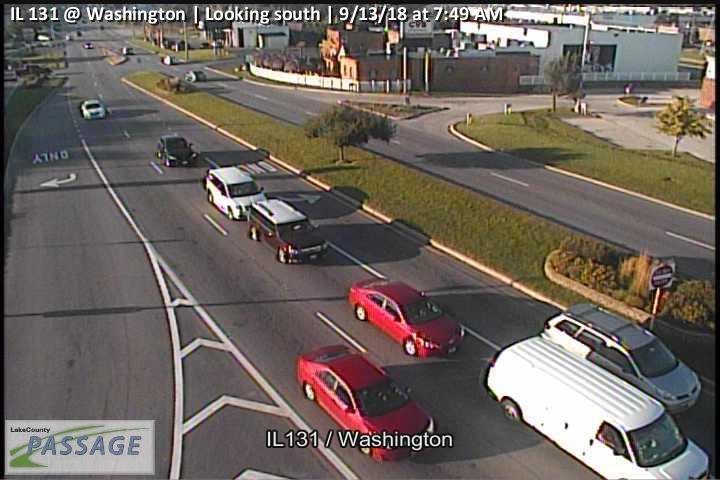SUV: (480, 335, 708, 480), (539, 303, 702, 418), (246, 198, 330, 264), (206, 166, 266, 222), (157, 135, 194, 167), (183, 70, 205, 82)
Sedan: (295, 343, 436, 464), (346, 276, 463, 358), (81, 99, 105, 120)
